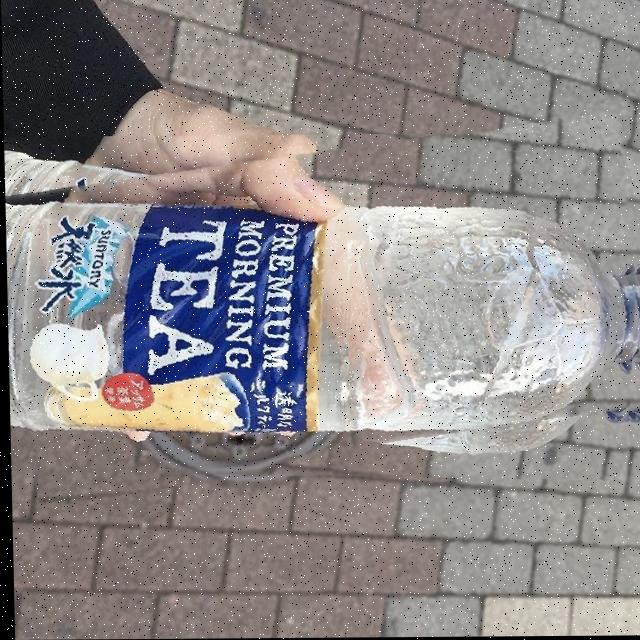plasticbottle: (2, 133, 640, 485)
